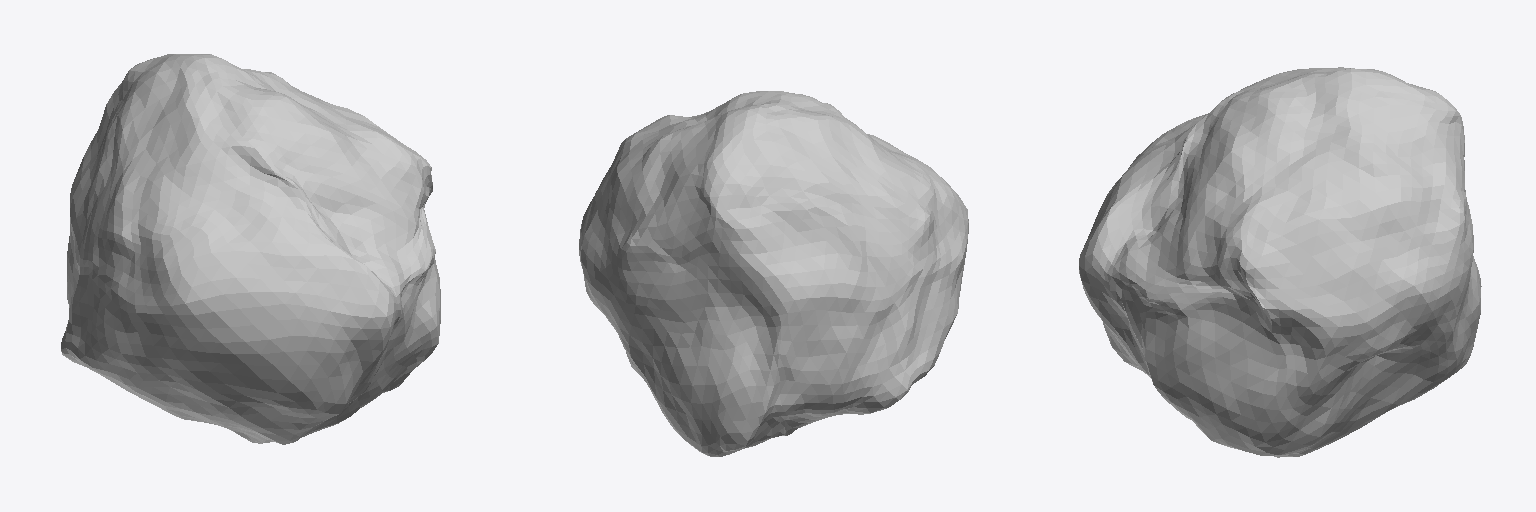
The model's file is Asteroid4.obj.
3 renders of one model, left to right at view 1: azimuth 30°, elevation 25°; view 2: azimuth 150°, elevation 25°; view 3: azimuth 270°, elevation 25°, orthographic.
Visible parts, largest first — view 1: Icosphere; view 2: Icosphere; view 3: Icosphere.
Boxes of the visible parts, box(x1,y1,x2,y2) form: Icosphere: box(61, 54, 440, 444); Icosphere: box(579, 91, 968, 456); Icosphere: box(1079, 67, 1481, 457).
Size of the model in its own units: 1.98 by 1.98 by 2.05.